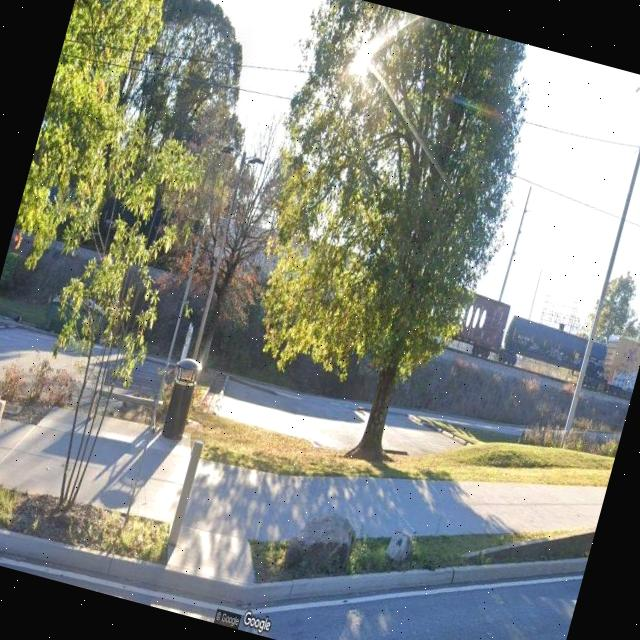seating: (85, 356, 170, 436)
trash_can: (156, 354, 204, 442)
